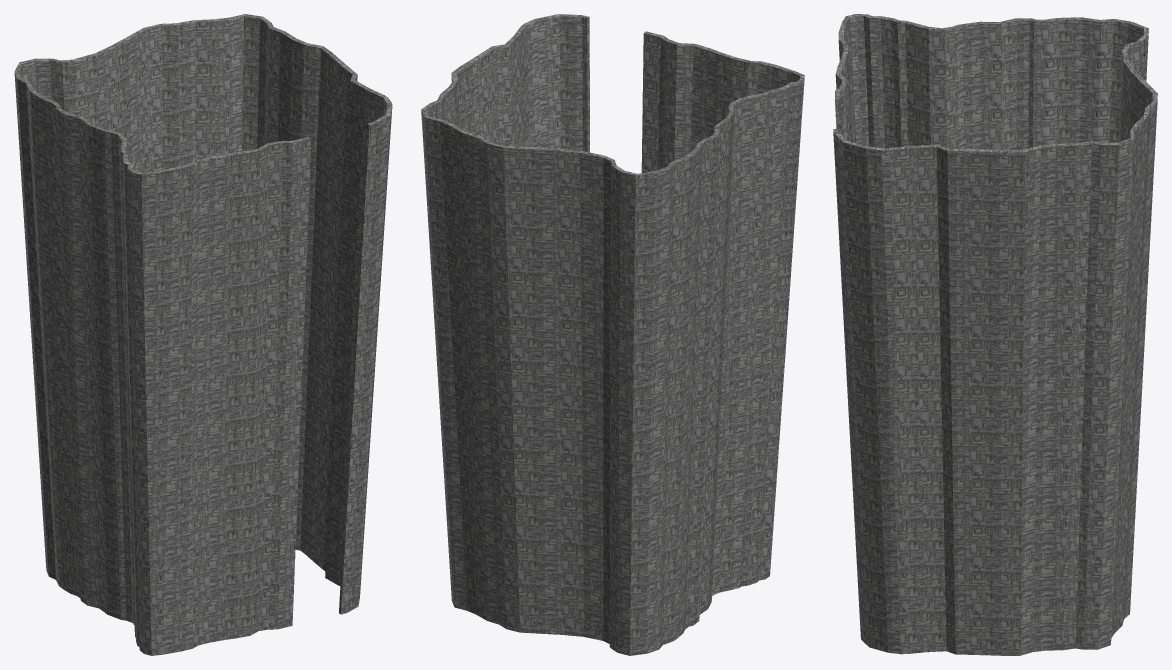
File: Area1_Border.fbx
The picture shows the model from 3 angles, left to right: view 1: azimuth 30°, elevation 25°; view 2: azimuth 150°, elevation 25°; view 3: azimuth 270°, elevation 25°; orthographic projection. The views are drawn at different scales.
Parts seen in each view (by area): view 1: Area1_Border; view 2: Area1_Border; view 3: Area1_Border.
Boxes of the visible parts, x1,y1,x2,y2 form: Area1_Border: [14, 14, 392, 655]; Area1_Border: [421, 14, 804, 655]; Area1_Border: [833, 14, 1157, 655].
Bounding box in the file's own units: 3129 × 5428 × 3101.
1 material, 1 textured.
